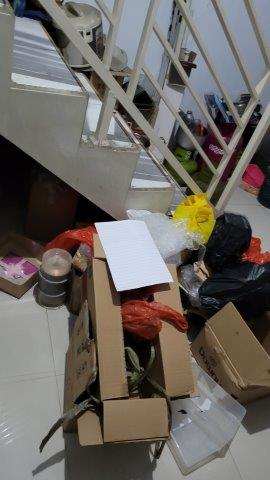kertas: (92, 219, 177, 291)
